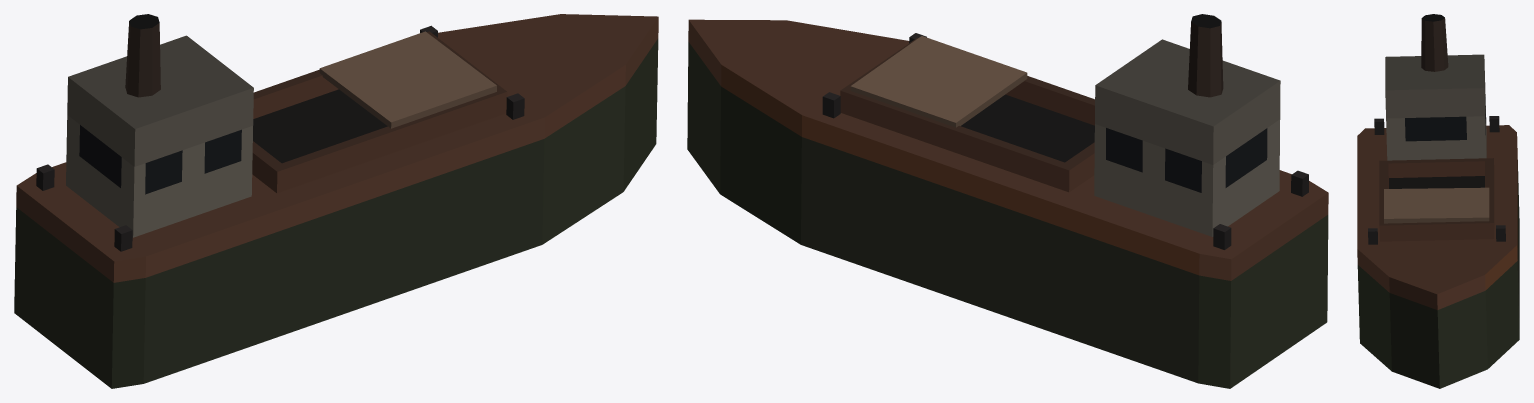
File: L18D_BargeSunk.fbx
The picture shows the model from 3 angles, left to right: view 1: azimuth 30°, elevation 25°; view 2: azimuth 150°, elevation 25°; view 3: azimuth 270°, elevation 25°; orthographic projection. The views are drawn at different scales.
Visible parts, largest first — view 1: L18D_BargeSunk; view 2: L18D_BargeSunk; view 3: L18D_BargeSunk.
Part boxes in pixels (bbox=[...]): L18D_BargeSunk: bbox=[14, 14, 658, 388]; L18D_BargeSunk: bbox=[687, 14, 1328, 388]; L18D_BargeSunk: bbox=[1357, 14, 1519, 388].
Size of the model in its own units: 15.59 by 7.96 by 5.01.
